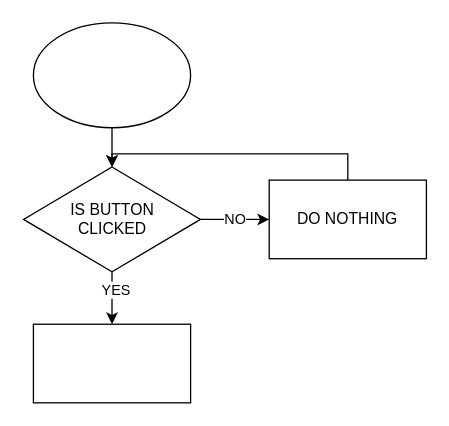
The diagram is 449 pixels wide and 426 high, and some of its shapes have lost their labels. The shapes that lost their labels are listed below. From the top down, each one's box as (x1, y1, x2, y2) in pixels, then its label:
(32, 22, 191, 128): START
(32, 323, 191, 403): UPDATE LABEL = HELLO WORLD!
